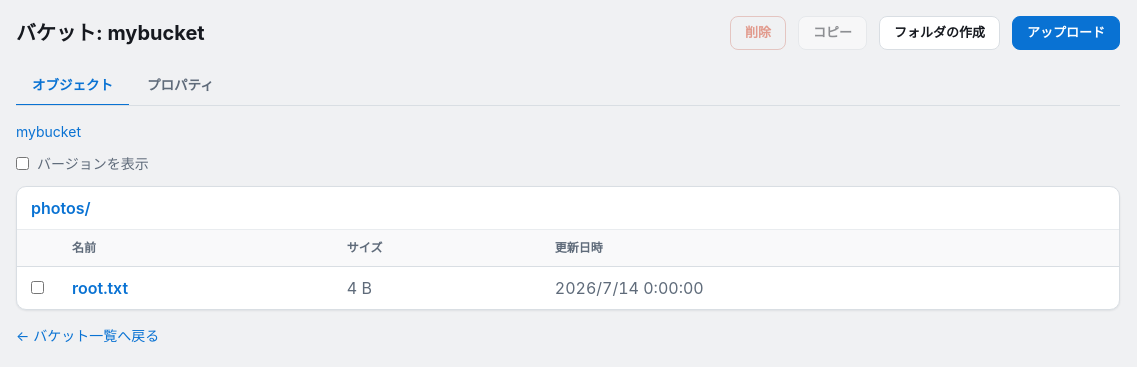
Test: BucketBrowserPage › toggles the versions view and lists versions
This screenshot has width=1137, height=367.
Expected: the button with test id "object-row-root.txt" is shown, [72, 276, 128, 300]
Click the checkbox with test id "versions-toggle" at (22,164), box [16, 157, 29, 170]
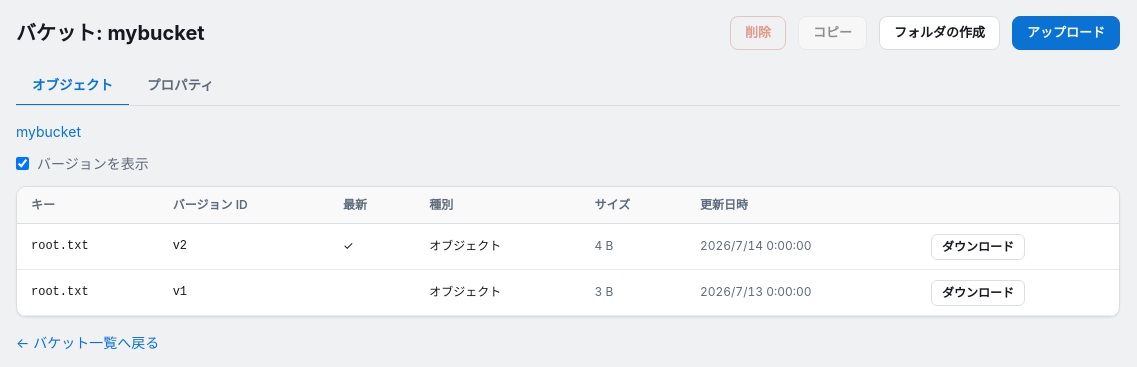
Expected: the table with test id "versions-table" is shown, [17, 187, 1119, 316]
Expected: the row with test id "version-row-v1" is shown, [17, 269, 1119, 315]
